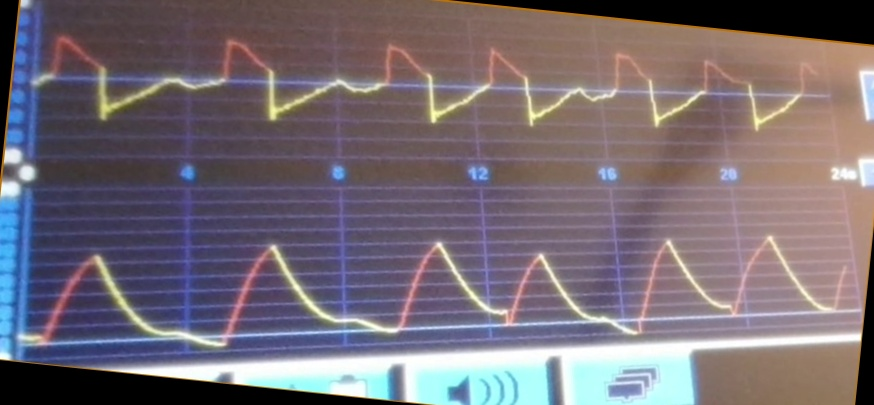Ineffective_effort Flow: (39, 31, 820, 147)
Ineffective_effort Volume: (26, 225, 848, 349)
